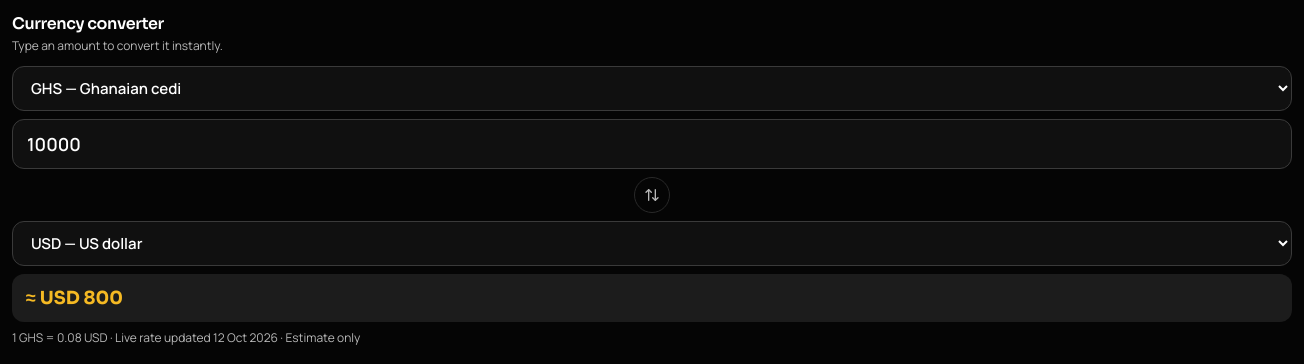
Test case: CurrencyConverter › rejects negative amounts and hides itself without rates
Expected: the text "≈ USD 800" is shown, 12,274 -> 1292,322
Replace the text in the number field named "Amount" with "-5" at (652, 144), box 12,119 -> 1292,169
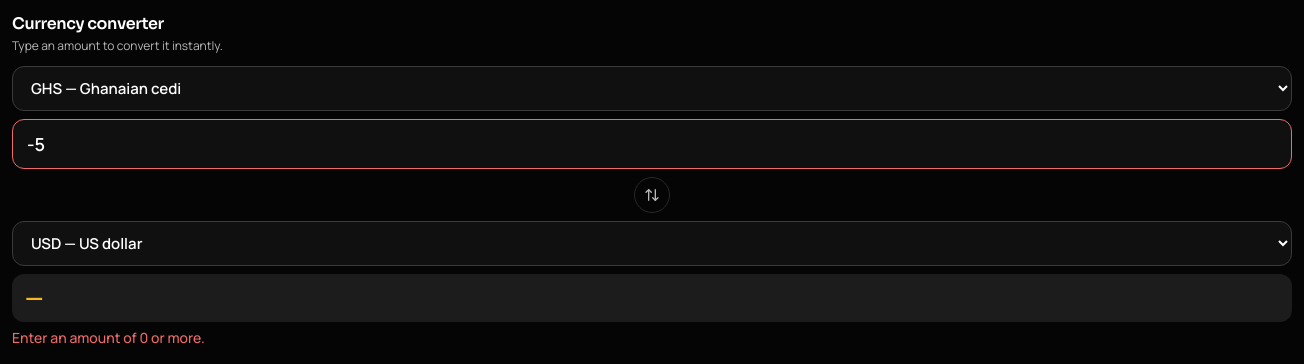
Result: the text "Enter an amount of 0 or more." is shown at 12,328 -> 205,347
